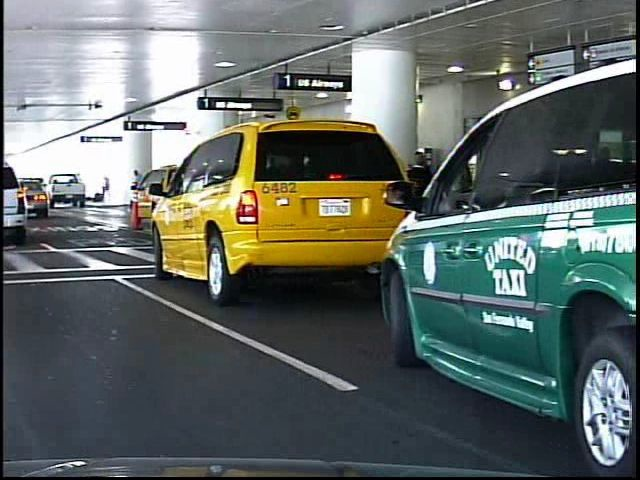person: (403, 149, 427, 194), (126, 169, 141, 208)
